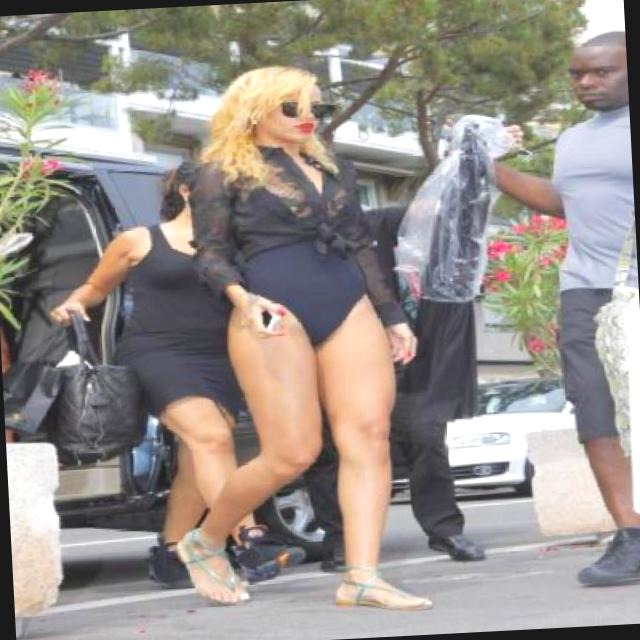Person: (137, 43, 454, 640)
